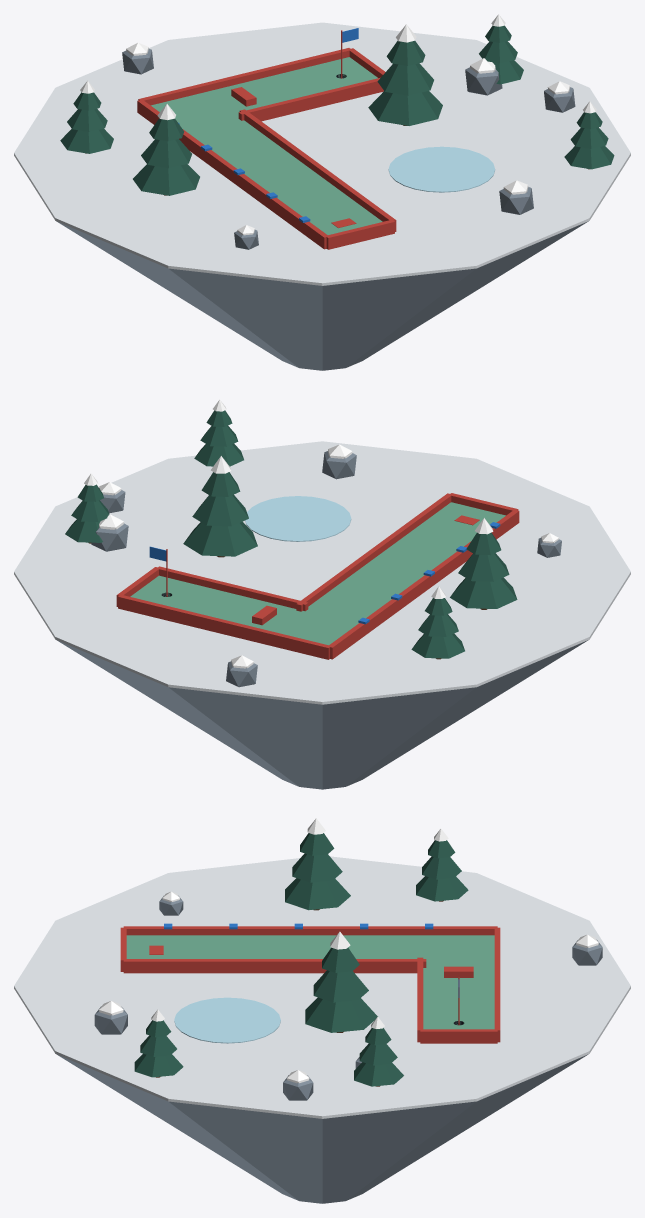
Rendered from hole2.glb.
The picture shows the model from 3 angles, top to bottom: view 1: azimuth 30°, elevation 25°; view 2: azimuth 150°, elevation 25°; view 3: azimuth 270°, elevation 25°; orthographic projection.
Parts seen in each view (by area): view 1: IslandTop, IslandBase, Turf0, Turf1, Pond, Rail7, Rail6, Rail4, PineP2_0, Rail3, PineP7_0, PineP2_1 (+14 smaller); view 2: IslandTop, IslandBase, Turf0, Turf1, Pond, Rail6, Rail7, PineP2_0, Rail3, PineP7_0, Rail4, PineP2_1 (+13 smaller); view 3: IslandTop, IslandBase, Turf0, Turf1, Rail3, Pond, Rail7, PineP2_0, PineP7_0, PineP2_1, Rail5, PineP7_1 (+13 smaller).
Part boxes in pixels (box(x1,y1,x2,y2)): IslandTop: box(14, 22, 630, 285); IslandBase: box(56, 221, 588, 370); Turf0: box(186, 119, 382, 234); Turf1: box(151, 57, 377, 131); Pond: box(388, 146, 495, 192); Rail7: box(137, 99, 328, 249); Rail6: box(138, 48, 350, 105); Rail4: box(238, 77, 383, 121); PineP2_0: box(368, 91, 442, 125); Rail3: box(239, 109, 396, 231); PineP7_0: box(133, 164, 199, 195); PineP2_1: box(377, 63, 433, 95); IslandTop: box(14, 441, 630, 704); IslandBase: box(56, 640, 588, 789); Turf0: box(306, 502, 505, 623); Turf1: box(130, 575, 357, 645); Pond: box(245, 496, 351, 541); Rail6: box(118, 595, 330, 659); Rail7: box(329, 510, 519, 659); PineP2_0: box(183, 521, 257, 556); Rail3: box(296, 493, 451, 611); PineP7_0: box(450, 577, 517, 608); Rail4: box(157, 566, 308, 611); PineP2_1: box(192, 494, 248, 526); IslandTop: box(14, 856, 630, 1118); IslandBase: box(56, 1054, 588, 1203); Turf0: box(126, 935, 423, 958); Turf1: box(423, 935, 494, 1029); Rail3: box(123, 959, 426, 973); Pond: box(174, 997, 280, 1043); Rail7: box(123, 926, 497, 935); PineP2_0: box(305, 997, 377, 1032); PineP7_0: box(285, 878, 350, 910); PineP2_1: box(313, 970, 368, 1002); Rail5: box(420, 1029, 497, 1043); PineP7_1: box(292, 853, 342, 882).
Size of the model in its own units: 10.4 by 5.55 by 10.4.
